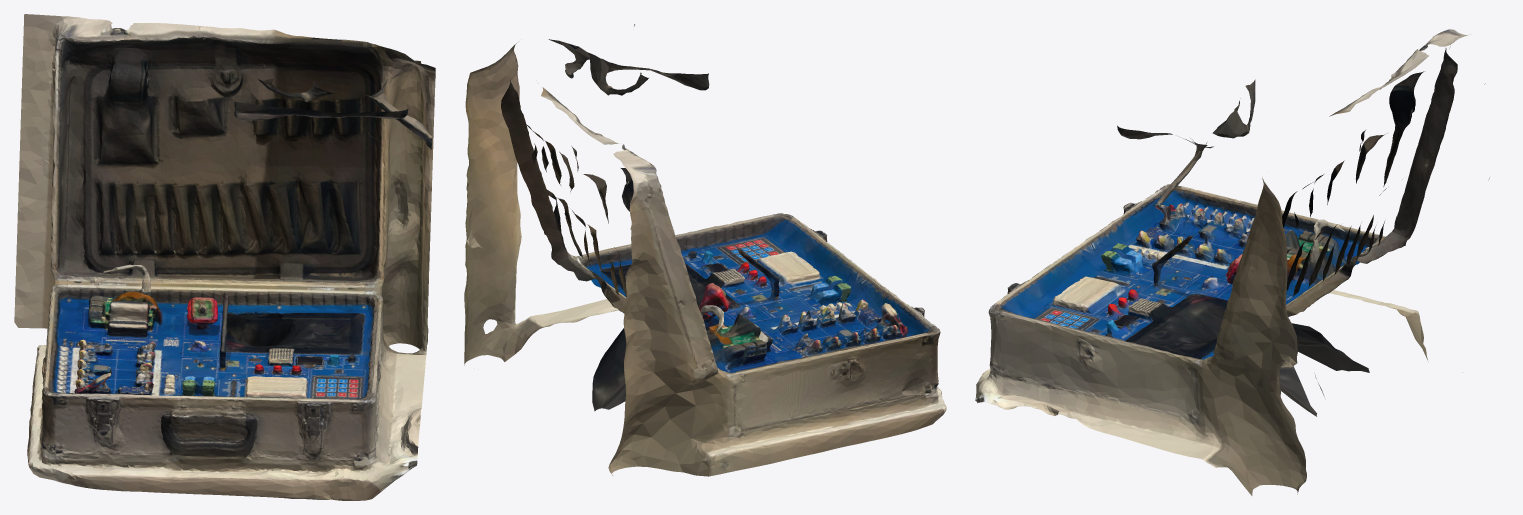
The model's file is OBJ_SYT8S8LVA25B.glb.
The picture shows the model from 3 angles, left to right: view 1: azimuth 30°, elevation 25°; view 2: azimuth 150°, elevation 25°; view 3: azimuth 270°, elevation 25°; orthographic projection. The views are drawn at different scales.
Bounding box in the file's own units: 0.6904 × 0.4919 × 0.6974.
Materials: 1 (1 with a texture image).
